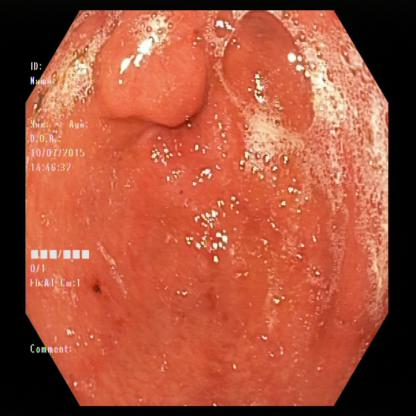Labels: (27, 56, 87, 186), (26, 246, 94, 359)
Polyps: (227, 12, 320, 134), (93, 22, 210, 116)
